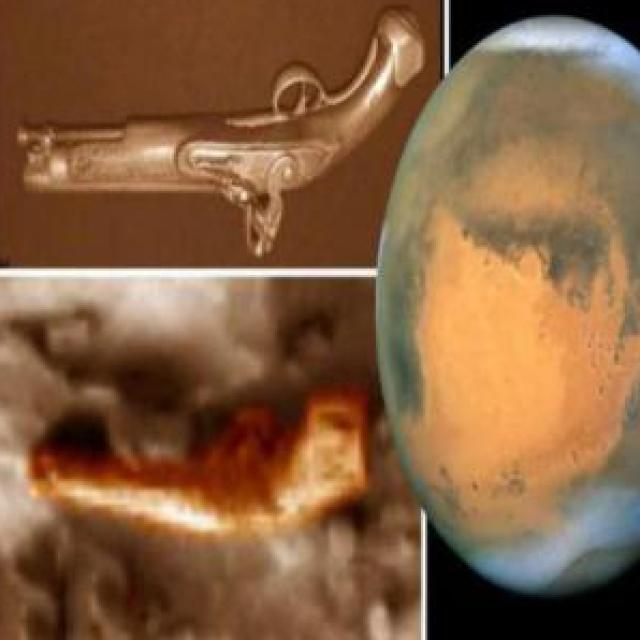pistol: (15, 13, 421, 251)
